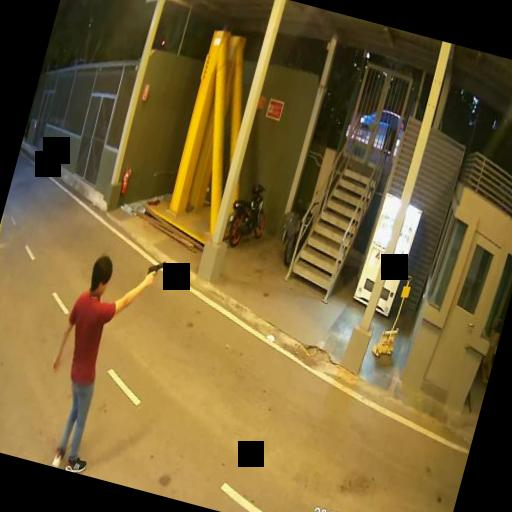Handgun: (142, 254, 164, 286)
